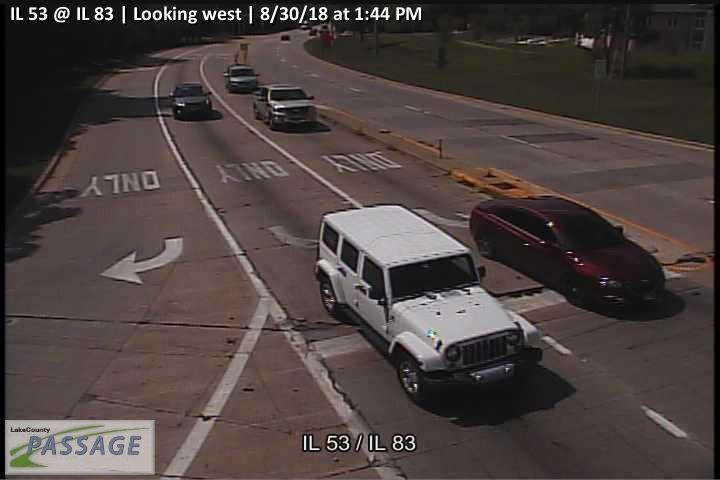SUV: (314, 204, 543, 399), (254, 85, 316, 131), (223, 65, 259, 94)
Sedan: (469, 195, 667, 305), (170, 83, 213, 120)
